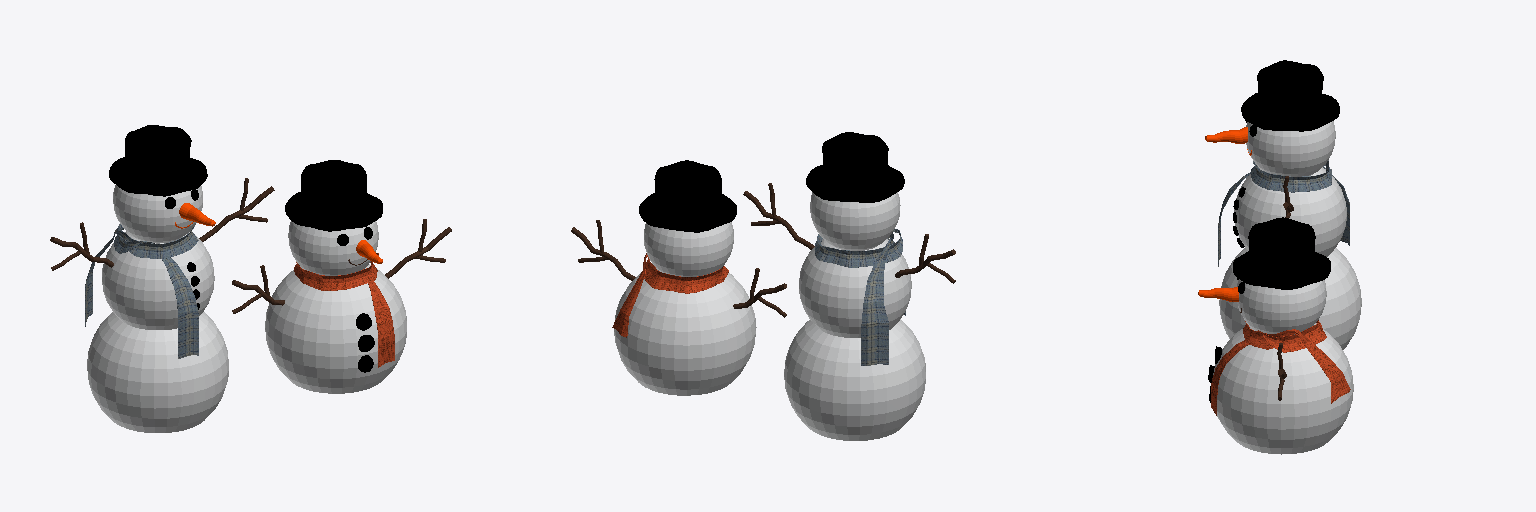
3 renders of one model, left to right at view 1: azimuth 30°, elevation 25°; view 2: azimuth 150°, elevation 25°; view 3: azimuth 270°, elevation 25°, orthographic.
Parts seen in each view (by area): view 1: snowman2_Sphere.004, snowman1_Sphere.001; view 2: snowman2_Sphere.004, snowman1_Sphere.001; view 3: snowman1_Sphere.001, snowman2_Sphere.004.
Boxes of the visible parts, <box> form: snowman2_Sphere.004: <box>50,125,274,432</box>; snowman1_Sphere.001: <box>232,160,451,393</box>; snowman2_Sphere.004: <box>743,132,955,440</box>; snowman1_Sphere.001: <box>571,160,786,395</box>; snowman1_Sphere.001: <box>1198,217,1353,454</box>; snowman2_Sphere.004: <box>1205,60,1361,349</box>.
Size of the model in its own units: 2.61 by 1.74 by 0.943.
Materials: 2 (2 with a texture image).